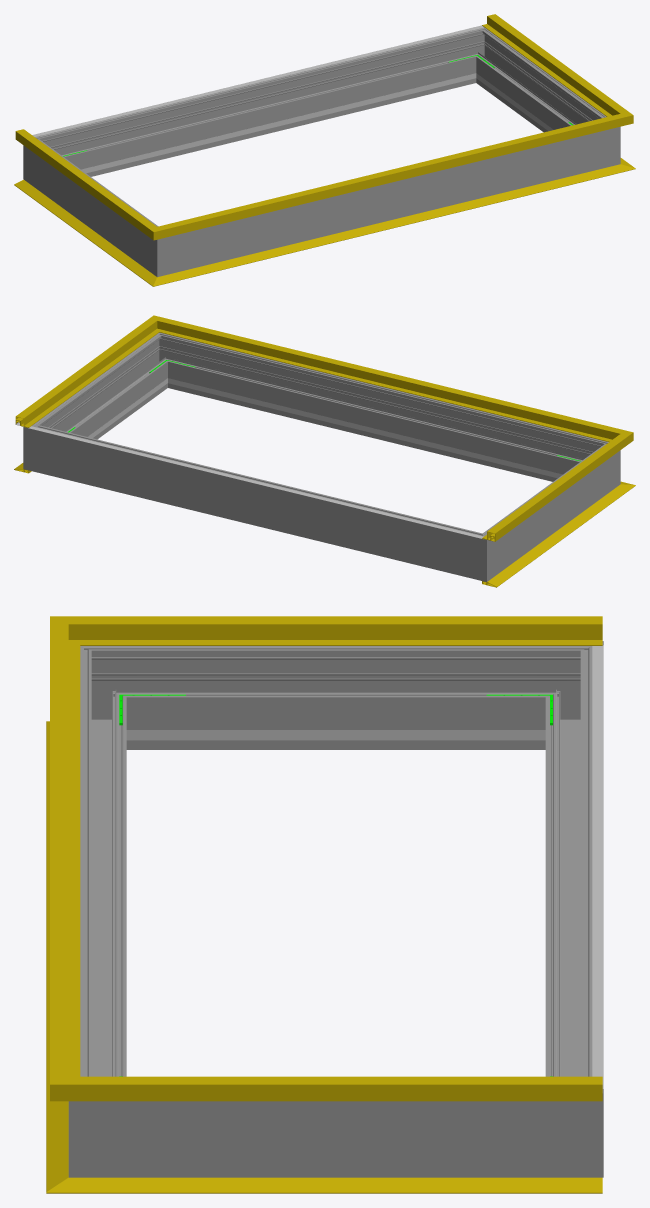
3 renders of one model, top to bottom at view 1: azimuth 30°, elevation 25°; view 2: azimuth 150°, elevation 25°; view 3: azimuth 270°, elevation 25°, orthographic. The views are drawn at different scales.
Visible parts, largest first — view 1: 3DGeom-276, 3DGeom-298, 3DGeom-123, 3DGeom-297, 3DGeom-28, 3DGeom-268, 3DGeom-128, 3DGeom-118, 3DGeom-244, 3DGeom-270, 3DGeom-38, 3DGeom-220 (+6 smaller); view 2: 3DGeom-298, 3DGeom-276, 3DGeom-123, 3DGeom-297, 3DGeom-268, 3DGeom-128, 3DGeom-118, 3DGeom-278, 3DGeom-239, 3DGeom-38, 3DGeom-220, 3DGeom-284 (+4 smaller); view 3: 3DGeom-268, 3DGeom-297, 3DGeom-276, 3DGeom-298, 3DGeom-118, 3DGeom-123, 3DGeom-128, 3DGeom-30, 3DGeom-290, 3DGeom-284, 3DGeom-220, 3DGeom-270 (+6 smaller).
Boxes of the visible parts, x1,y1,x2,y2 form: 3DGeom-276: (56, 33, 471, 176); 3DGeom-298: (187, 134, 590, 269); 3DGeom-123: (179, 119, 603, 232); 3DGeom-297: (479, 38, 597, 132); 3DGeom-28: (178, 169, 605, 279); 3DGeom-268: (41, 147, 149, 263); 3DGeom-128: (482, 14, 615, 113); 3DGeom-118: (15, 129, 143, 227); 3DGeom-244: (92, 80, 446, 171); 3DGeom-270: (139, 220, 187, 277); 3DGeom-38: (14, 179, 144, 273); 3DGeom-220: (32, 25, 484, 136); 3DGeom-298: (173, 338, 587, 481); 3DGeom-276: (53, 430, 461, 574); 3DGeom-123: (176, 323, 602, 438); 3DGeom-297: (46, 343, 164, 439); 3DGeom-268: (494, 452, 603, 568); 3DGeom-128: (15, 328, 149, 427); 3DGeom-118: (482, 443, 615, 541); 3DGeom-278: (456, 525, 504, 581); 3DGeom-239: (197, 385, 551, 476); 3DGeom-38: (482, 493, 618, 587); 3DGeom-220: (28, 426, 483, 538); 3DGeom-284: (23, 415, 58, 476); 3DGeom-268: (138, 646, 533, 749); 3DGeom-297: (138, 1101, 533, 1177); 3DGeom-276: (545, 670, 592, 1076); 3DGeom-298: (80, 670, 126, 1076); 3DGeom-118: (119, 616, 602, 645); 3DGeom-123: (50, 646, 80, 1070); 3DGeom-128: (119, 1076, 602, 1101); 3DGeom-30: (116, 1177, 602, 1193); 3DGeom-290: (68, 1064, 138, 1177); 3DGeom-284: (534, 1064, 603, 1177); 3DGeom-220: (592, 645, 603, 1088); 3DGeom-270: (80, 646, 138, 749).
Size of the model in its own units: 2.44 by 0.2596 by 1.22.
